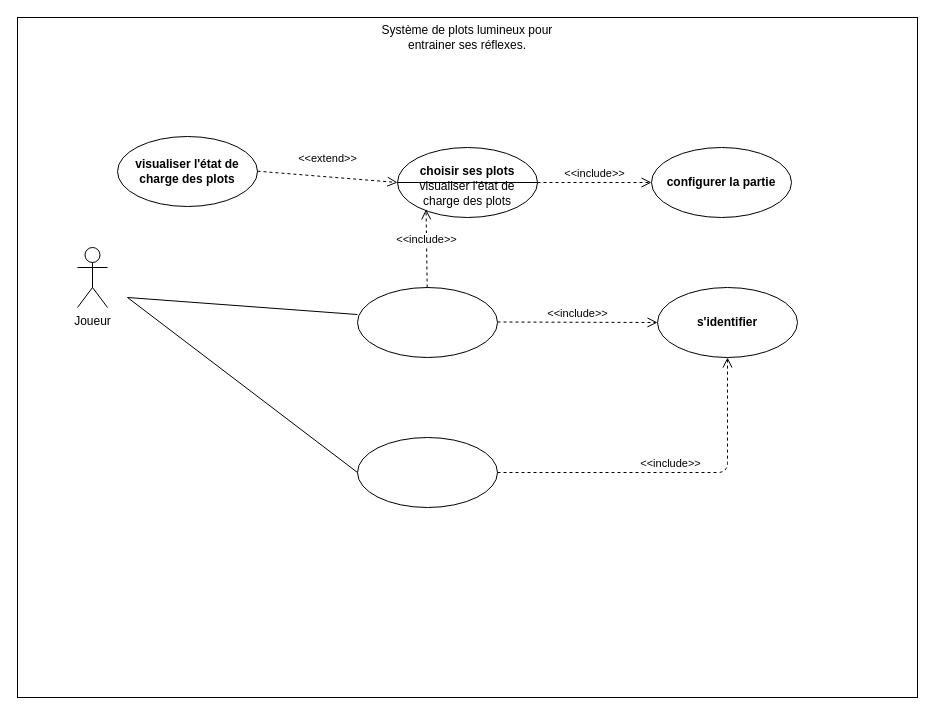
Image size: 935x715. Some labels were removed from this diagram. The centre of each missing label's shape, as x and y in pixels:
"s'entrainer" belongs at pixel 427 322.
"visualiser ses résultats" belongs at pixel 427 472.
